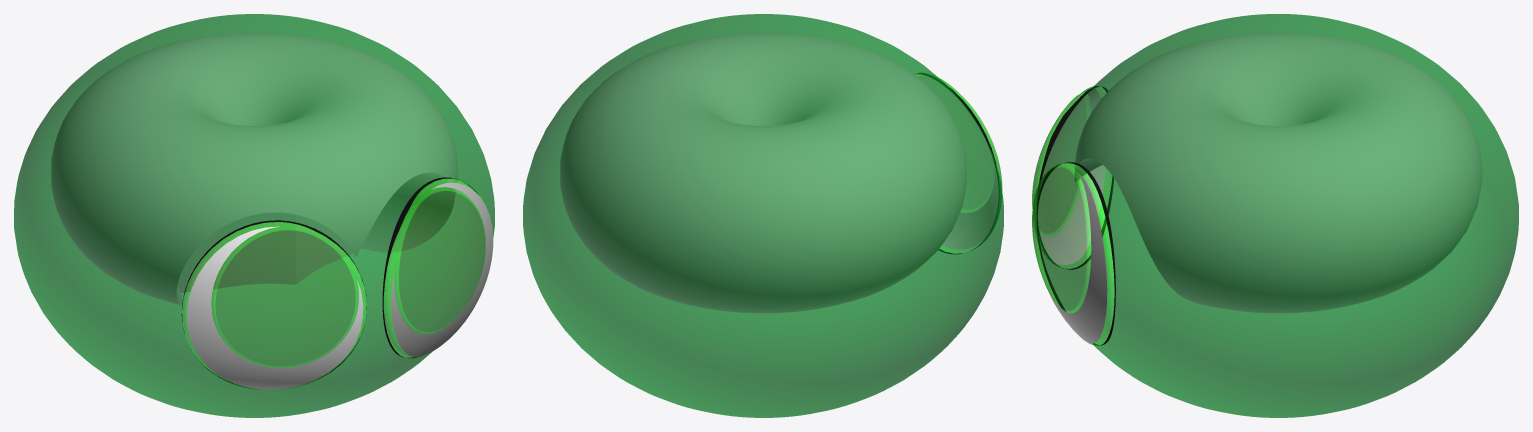
Rendered from puyo.FBX.
The picture shows the model from 3 angles, left to right: view 1: azimuth 30°, elevation 25°; view 2: azimuth 150°, elevation 25°; view 3: azimuth 270°, elevation 25°; orthographic projection.
Parts seen in each view (by area): view 1: 캐릭터1; view 2: 캐릭터1; view 3: 캐릭터1.
Boxes of the visible parts, bbox=[...] form: 캐릭터1: bbox=[14, 14, 494, 417]; 캐릭터1: bbox=[523, 14, 1003, 417]; 캐릭터1: bbox=[1032, 14, 1518, 417].
Bounding box in the file's own units: 14.52 × 14.69 × 11.62.
